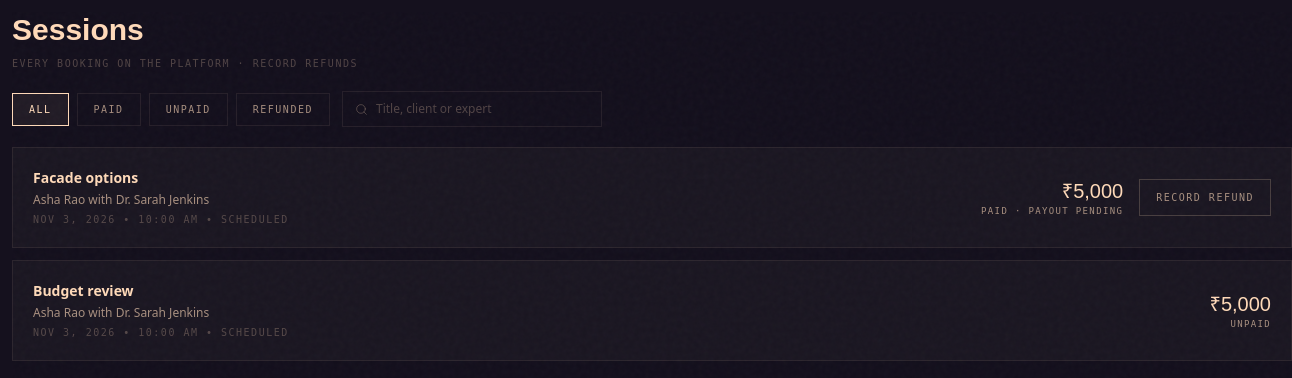
it: Admin / Sessions › filters and searches
Check: the text "Facade options" is shown, box [33,168,138,187]
Click the tab "UNPAID". click: coordinates (188, 109)
box: [149,92,228,126]
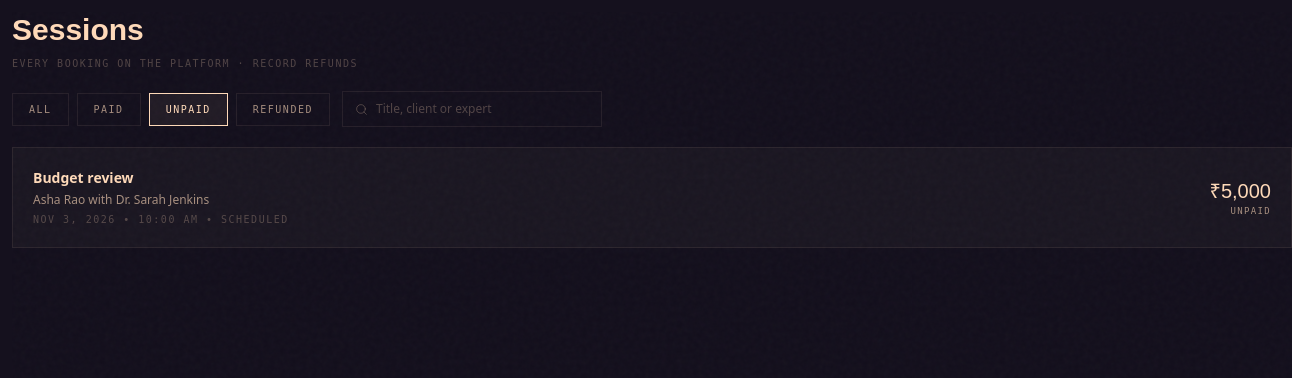
Check: the text "Budget review" is shown, box [33,168,134,187]
Check: the text "Facade options" is gone
Click the tab "ALL". click: coordinates (40, 109)
box: [12,92,69,126]
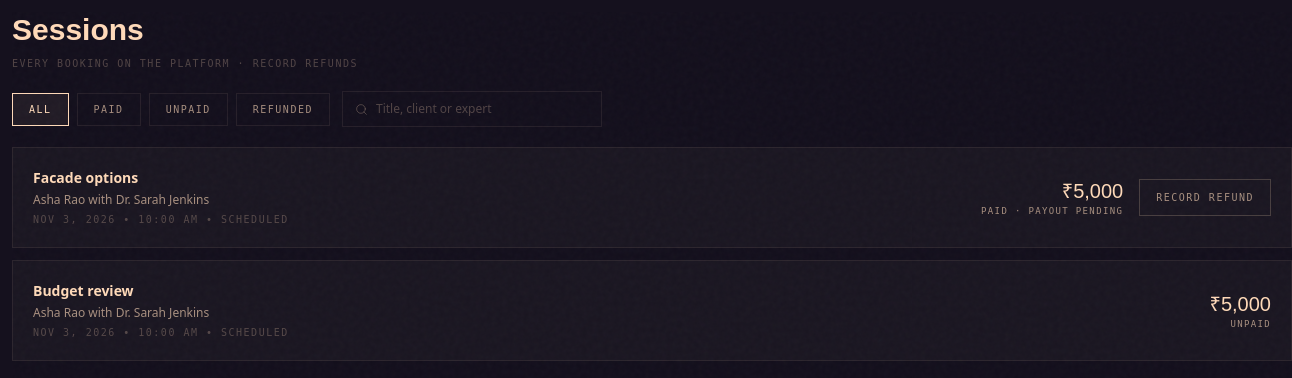
Type "budget" into the field named "Search sessions". click: coordinates (482, 109)
box: [376,100,589,118]
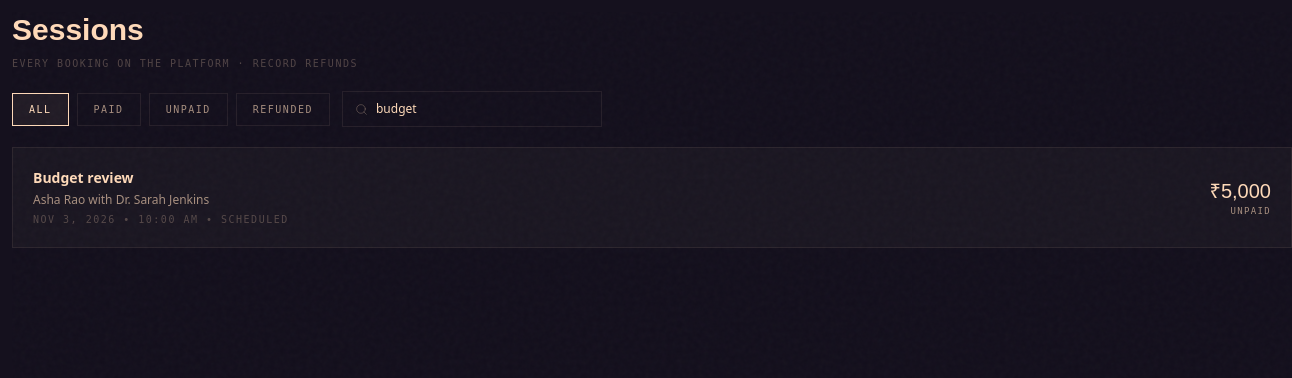
Check: the text "Facade options" is gone
